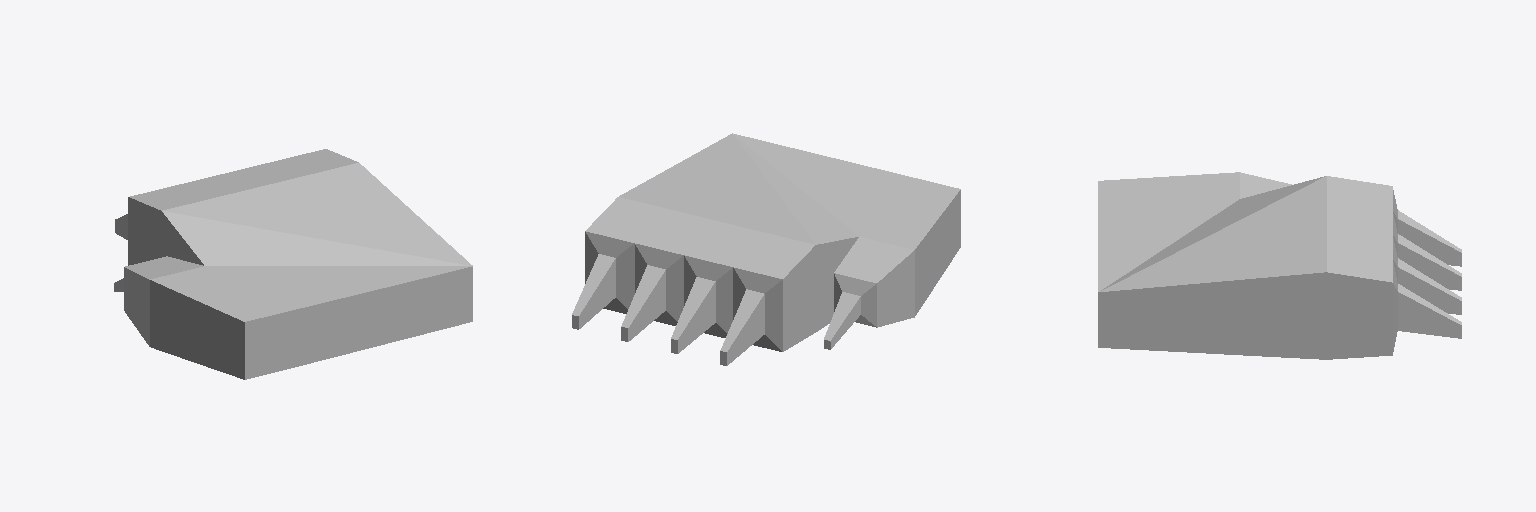
The model's file is claw.obj.
3 renders of one model, left to right at view 1: azimuth 30°, elevation 25°; view 2: azimuth 150°, elevation 25°; view 3: azimuth 270°, elevation 25°, orthographic.
Visible parts, largest first — view 1: Cube_Cube.001; view 2: Cube_Cube.001; view 3: Cube_Cube.001.
Boxes of the visible parts, box(x1,y1,x2,y2) form: Cube_Cube.001: box(114, 149, 472, 379); Cube_Cube.001: box(572, 133, 960, 365); Cube_Cube.001: box(1098, 172, 1461, 359).
Bounding box in the file's own units: 0.6932 × 0.2379 × 0.8619.